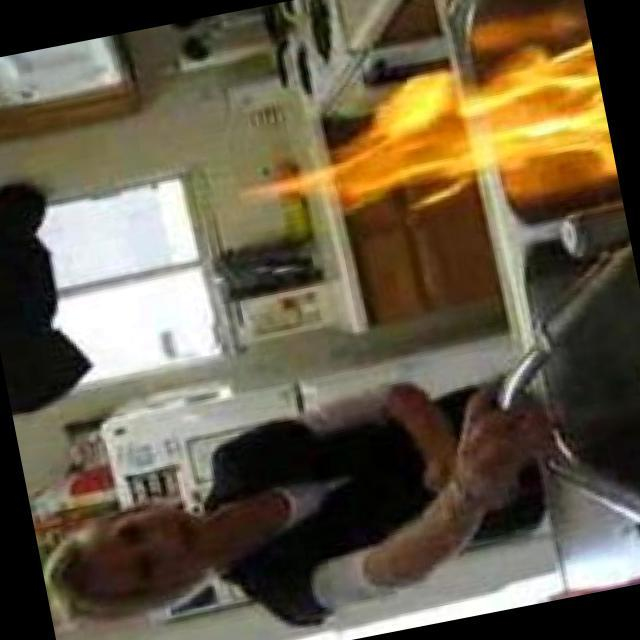fire: (247, 34, 619, 246)
